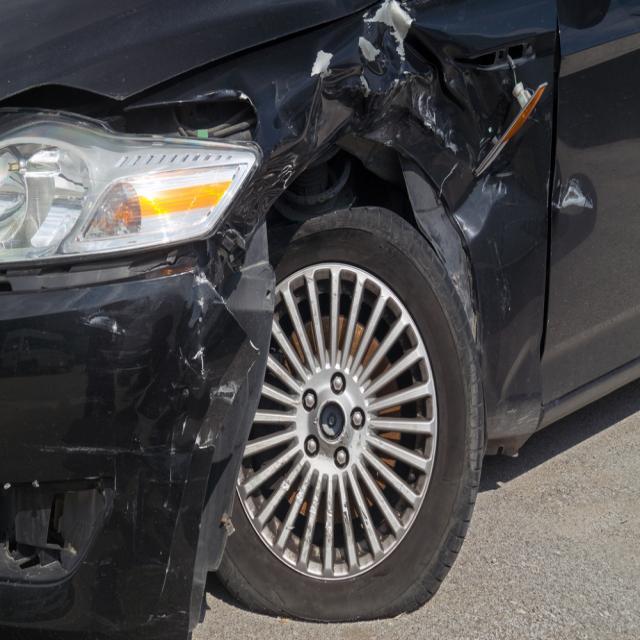crack: (124, 250, 192, 272)
dent: (228, 3, 478, 232)
scratch: (50, 272, 247, 468)
tire flat: (217, 194, 485, 625)
